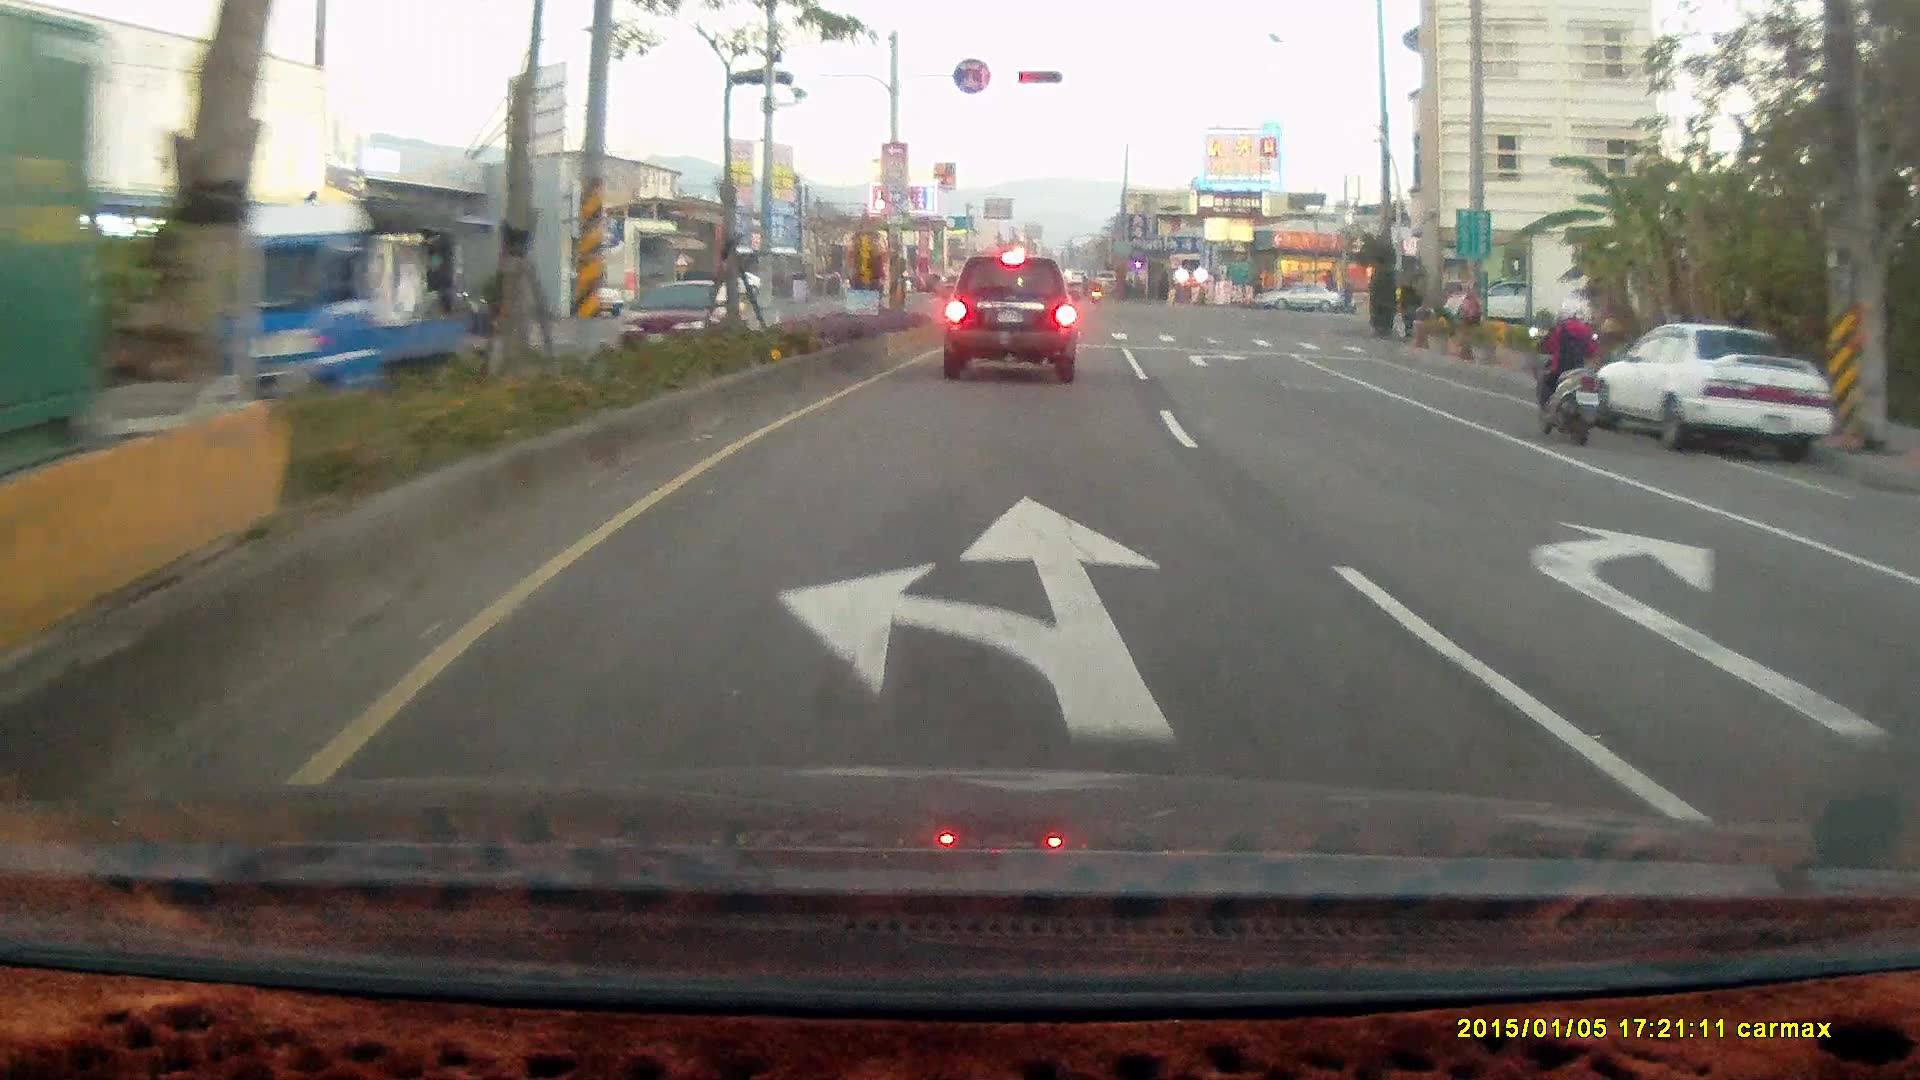rider: (1525, 295, 1607, 446), (1329, 278, 1356, 316)
vehicle: (130, 201, 467, 424), (1582, 322, 1838, 463), (1581, 322, 1837, 462), (940, 254, 1078, 384), (1896, 493, 1920, 836), (1883, 528, 1920, 690), (1443, 277, 1554, 327), (1250, 278, 1342, 312)
